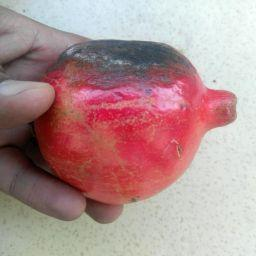pomegranate: (33, 39, 238, 203)
